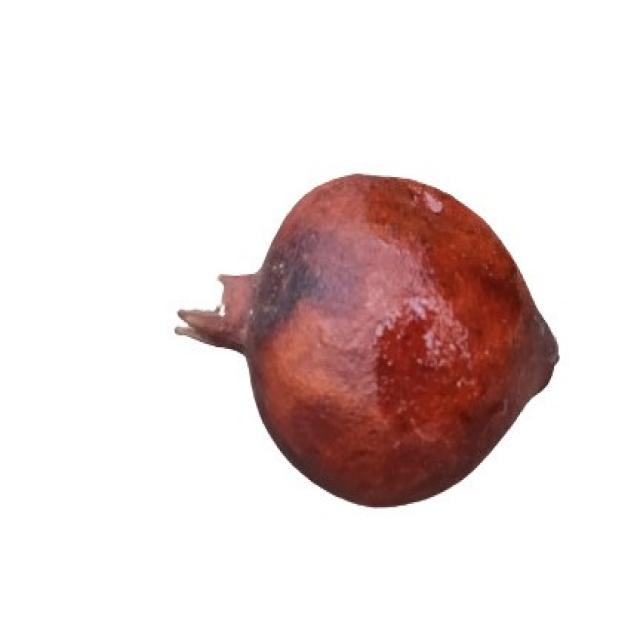Rotten: (173, 172, 561, 509)
